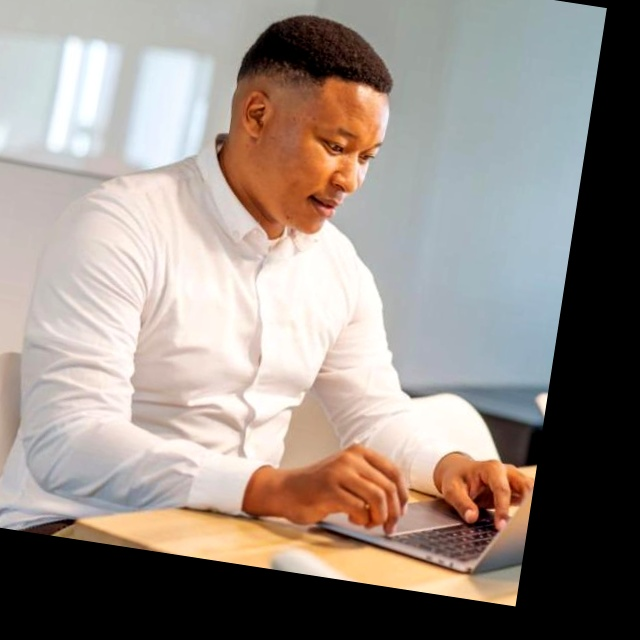Sin_Casco_Mascarrilla: (212, 6, 405, 244)
